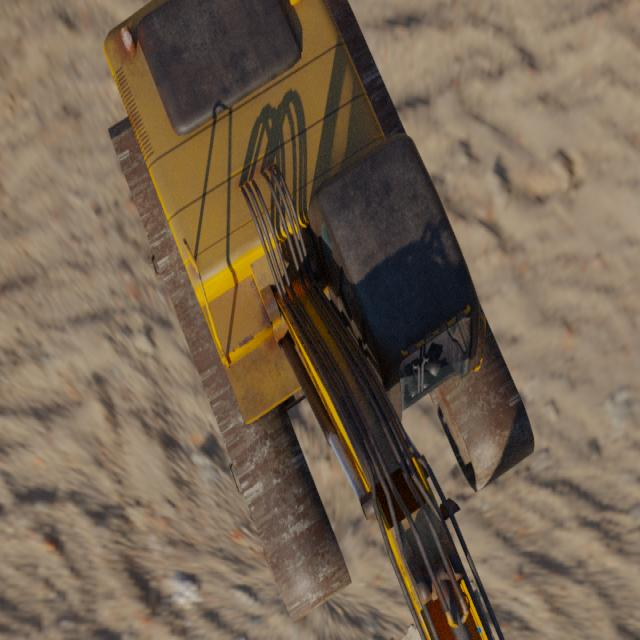excavator: (102, 0, 535, 640)
